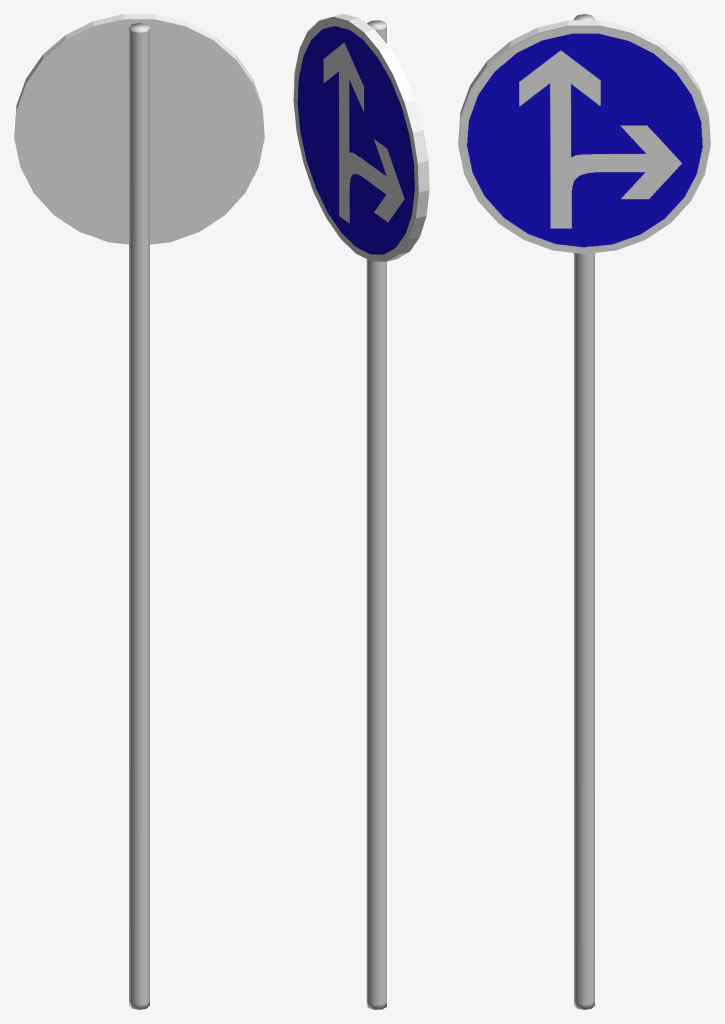
Rendered from sign_no_left_turn.glb.
The picture shows the model from 3 angles, left to right: view 1: azimuth 90°, elevation 25°; view 2: azimuth 210°, elevation 25°; view 3: azimuth 270°, elevation 25°; orthographic projection.
Parts seen in each view (by area): view 1: no_left_turn, pole; view 2: no_left_turn, pole; view 3: no_left_turn, pole.
Boxes of the visible parts, left/top/right/bottom form: no_left_turn: left=14, top=14, right=264, bottom=244; pole: left=129, top=23, right=149, bottom=1009; no_left_turn: left=293, top=14, right=429, bottom=261; pole: left=366, top=20, right=386, bottom=1009; no_left_turn: left=458, top=20, right=710, bottom=253; pole: left=574, top=14, right=594, bottom=1009.
Bounding box in the file's own units: 0.0826 × 2.6 × 0.6.
Materials: 2 (1 with a texture image).
